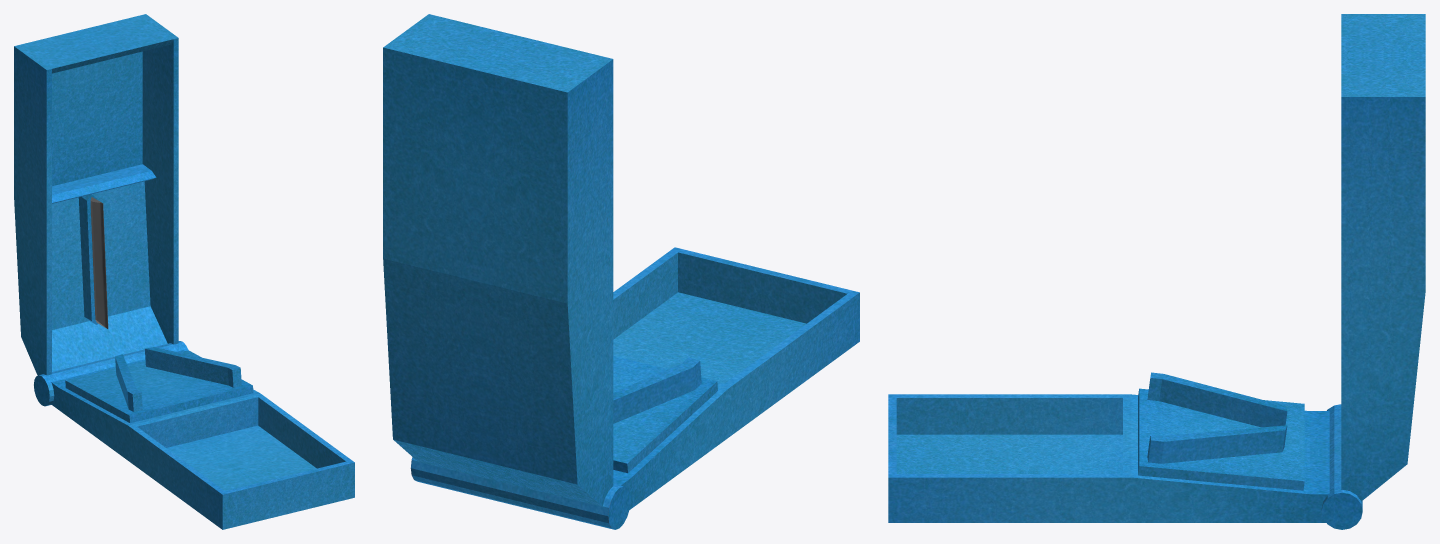
The model's file is pillcutter.fbx.
3 views of the same model, side by side, from view 1: azimuth 30°, elevation 25°; view 2: azimuth 150°, elevation 25°; view 3: azimuth 270°, elevation 25° (orthographic). The views are drawn at different scales.
Parts seen in each view (by area): view 1: Cutter top, Cutter; view 2: Cutter top, Cutter; view 3: Cutter, Cutter top.
Part boxes in pixels (x1,y1,x2,y2): Cutter top: [14, 14, 188, 406]; Cutter: [51, 347, 354, 529]; Cutter top: [383, 14, 630, 529]; Cutter: [613, 247, 859, 509]; Cutter: [888, 372, 1329, 522]; Cutter top: [1321, 14, 1425, 529].
Size of the model in its own units: 0.0427 by 0.0966 by 0.1093.
